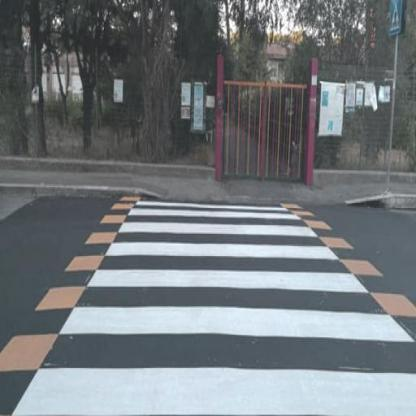crosswalk: (57, 266, 415, 352), (114, 206, 321, 240)
